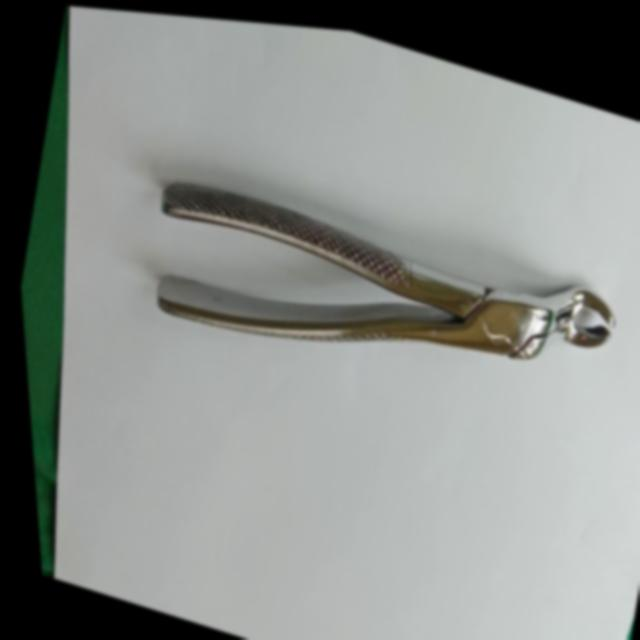BayonetForcep: (112, 118, 640, 469)
